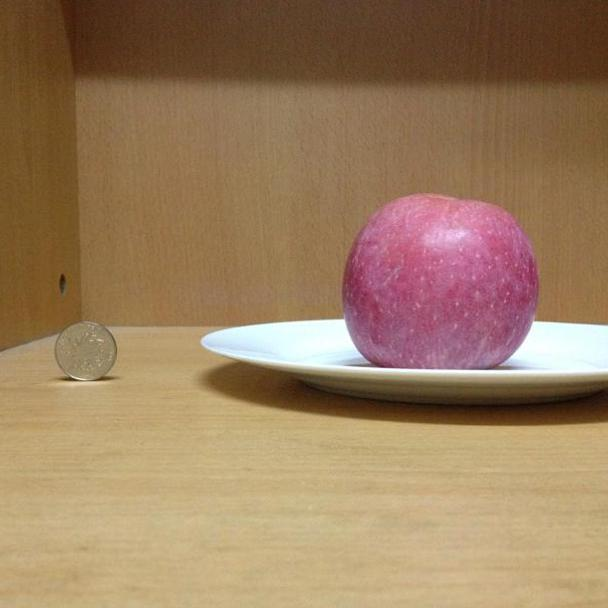apple: (340, 189, 544, 370)
